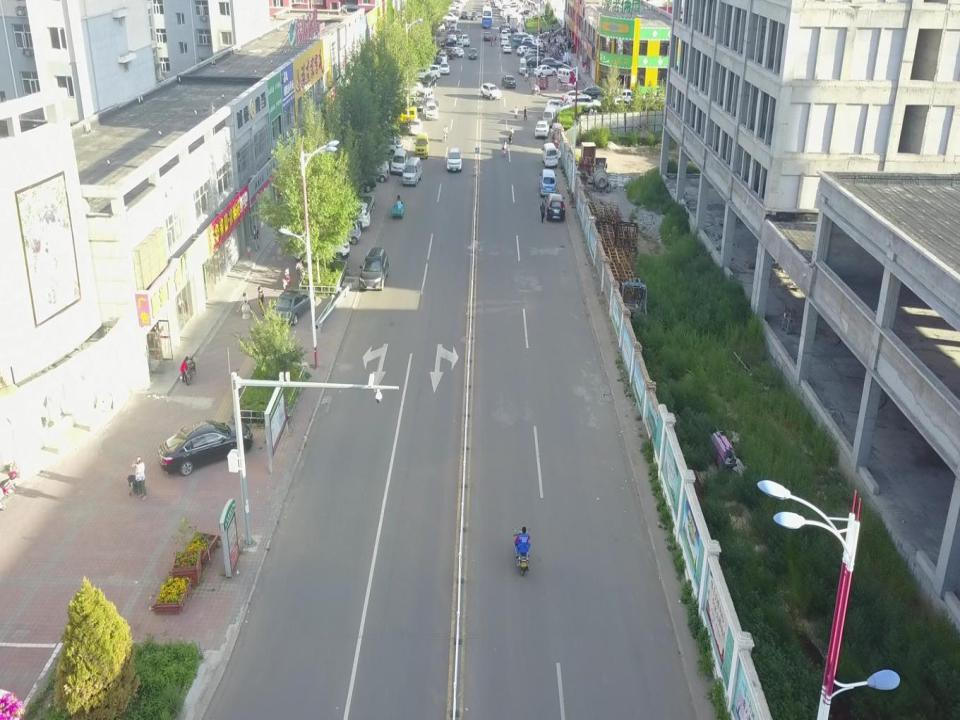bus: (482, 6, 492, 28)
car: (142, 420, 253, 470), (270, 288, 316, 324), (294, 235, 349, 262), (359, 246, 389, 290), (320, 218, 361, 245), (330, 201, 370, 228), (338, 173, 376, 192), (544, 193, 566, 221), (373, 138, 403, 156), (569, 94, 599, 110), (539, 168, 556, 196), (397, 81, 423, 97), (446, 147, 462, 172), (414, 97, 439, 113), (545, 99, 572, 113), (390, 150, 407, 172), (480, 83, 502, 100), (562, 90, 591, 102), (578, 86, 605, 98), (534, 64, 558, 77), (418, 64, 440, 78), (610, 97, 635, 108), (424, 102, 439, 120), (542, 58, 564, 70), (525, 56, 546, 68), (421, 72, 436, 88), (446, 46, 465, 58), (412, 69, 432, 80), (516, 44, 534, 56), (501, 74, 516, 88), (409, 118, 422, 133), (537, 74, 549, 90), (524, 49, 545, 58), (438, 39, 456, 47), (458, 34, 470, 46), (438, 51, 448, 64), (440, 62, 450, 74), (502, 42, 512, 53), (469, 48, 478, 59), (434, 55, 442, 67), (500, 29, 508, 41), (454, 41, 463, 51), (502, 27, 511, 37), (484, 31, 492, 41), (501, 36, 509, 45), (470, 11, 477, 20), (461, 10, 467, 19)
truck: (505, 16, 517, 31)
van: (352, 159, 390, 183), (402, 156, 422, 188), (390, 106, 418, 126), (541, 142, 558, 168), (415, 131, 429, 159), (558, 68, 578, 84), (542, 106, 558, 126), (413, 88, 434, 103), (614, 88, 635, 102), (436, 47, 456, 59), (518, 58, 527, 74)
